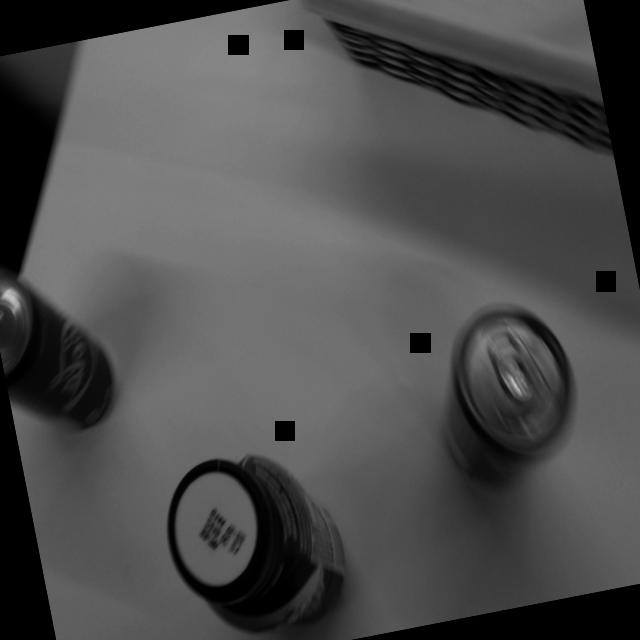chocolate_drink: (147, 429, 365, 640)
coke: (0, 235, 129, 448)
sprite: (414, 286, 603, 506)
